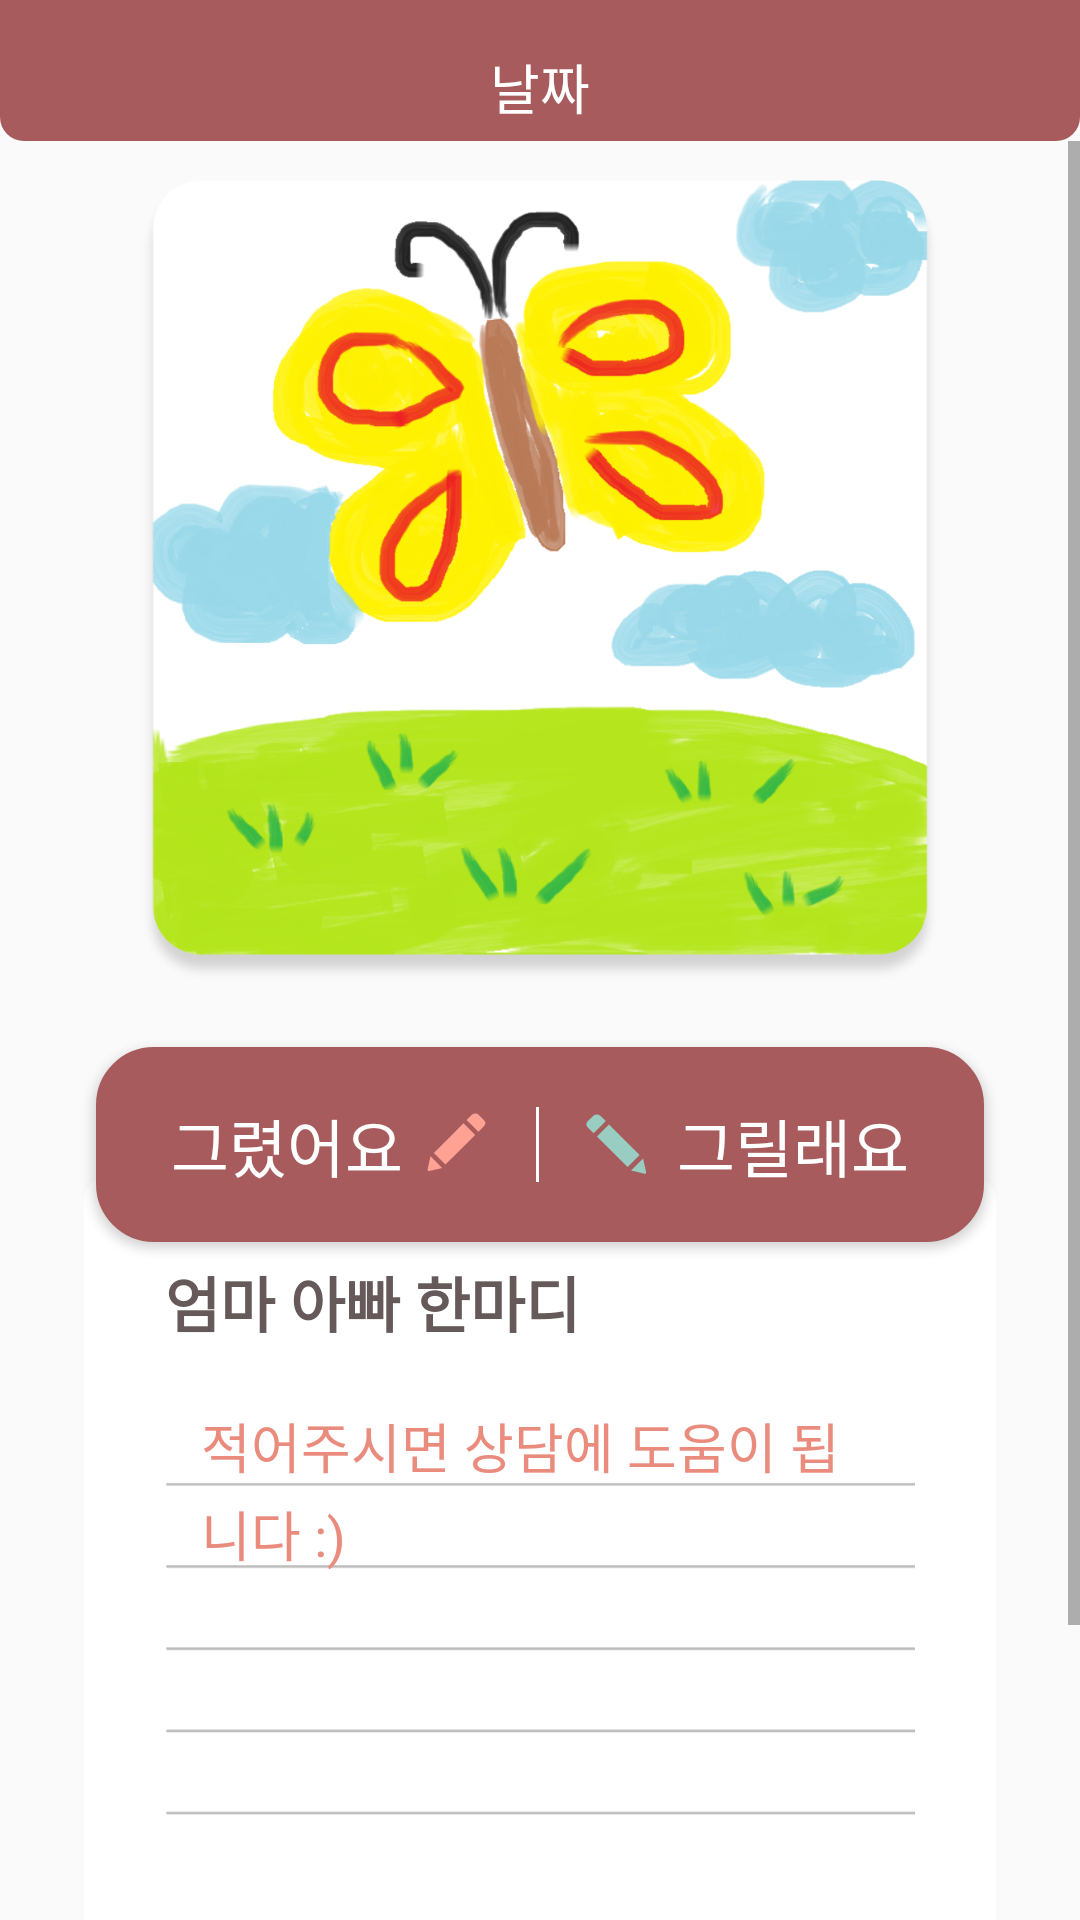

Point at icon controls on the screen. Image size 1080x1920, points as point (x, y).
pencil: point (456, 1142), point (616, 1144)
